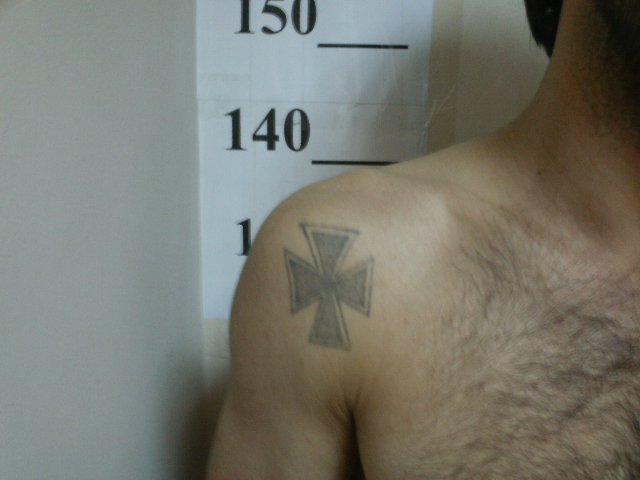tatu9_krest: (273, 219, 382, 359)
